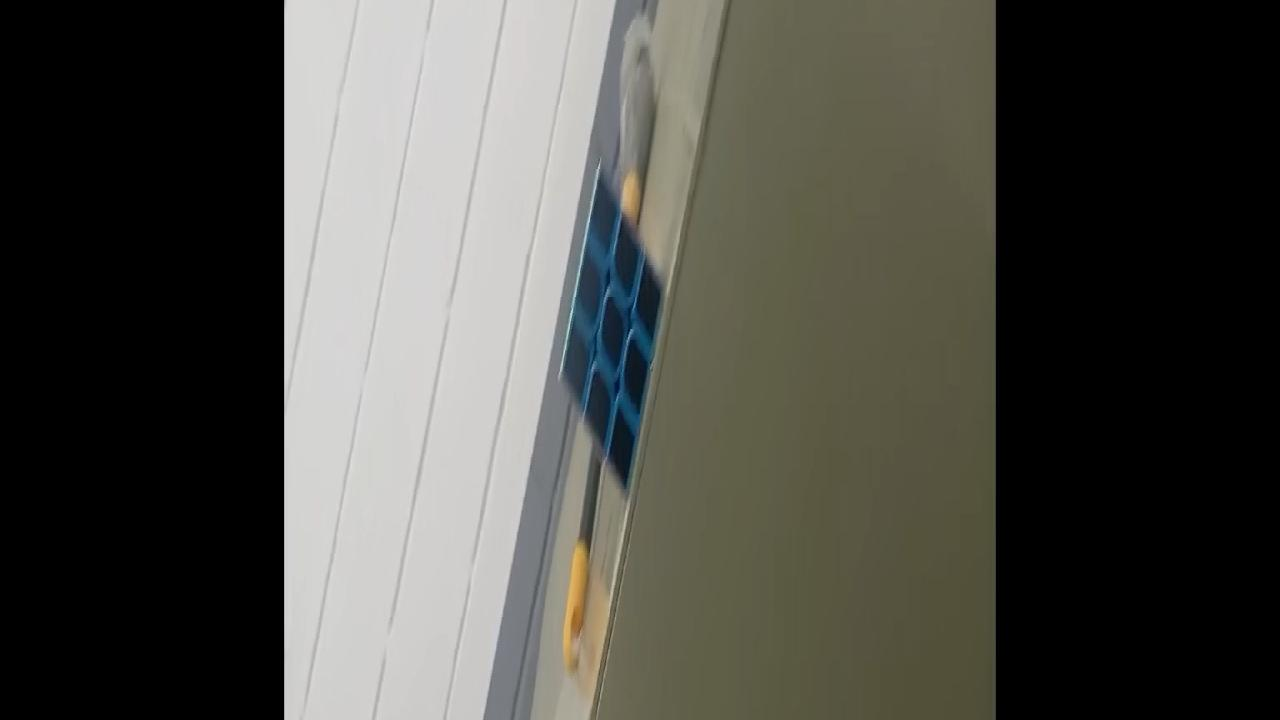Cube: (556, 157, 664, 499)
